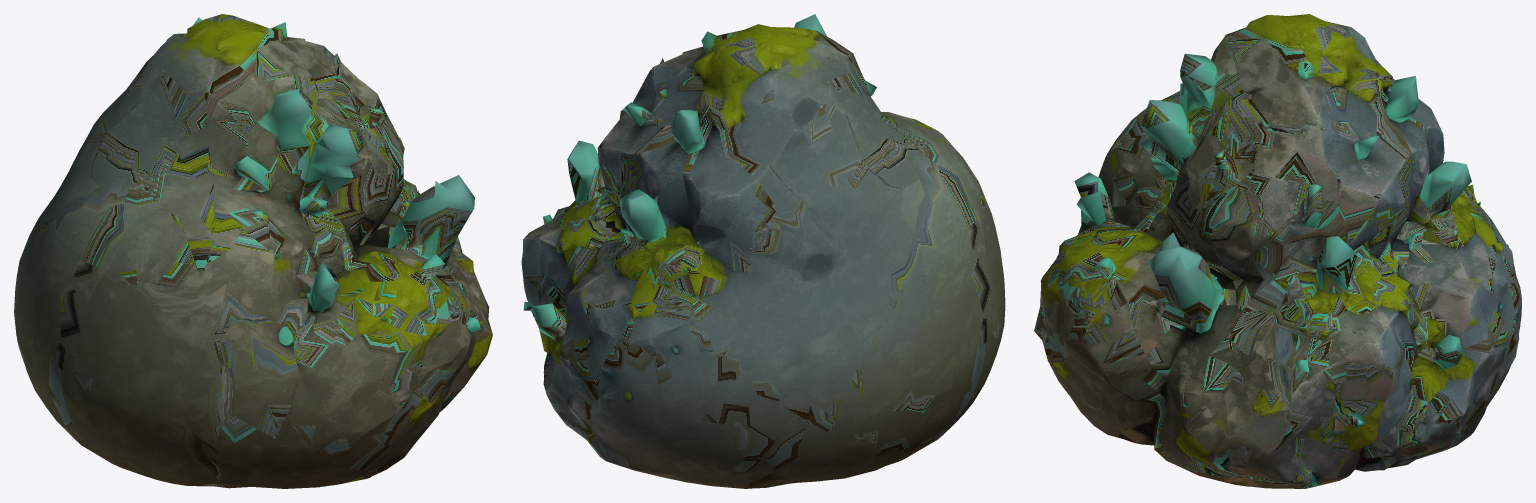
Rendered from emerald_ore_rock_01.glb.
3 views of the same model, side by side, from view 1: azimuth 30°, elevation 25°; view 2: azimuth 150°, elevation 25°; view 3: azimuth 270°, elevation 25° (orthographic).
Visible parts, largest first — view 1: tripo_node_98f566ad-8542-4377-b704-916d8ba9a4c2; view 2: tripo_node_98f566ad-8542-4377-b704-916d8ba9a4c2; view 3: tripo_node_98f566ad-8542-4377-b704-916d8ba9a4c2.
Boxes of the visible parts, box(x1,y1,x2,y2) form: tripo_node_98f566ad-8542-4377-b704-916d8ba9a4c2: box(14, 14, 492, 488); tripo_node_98f566ad-8542-4377-b704-916d8ba9a4c2: box(521, 14, 1005, 488); tripo_node_98f566ad-8542-4377-b704-916d8ba9a4c2: box(1034, 14, 1521, 488).
Size of the model in its own units: 0.9965 by 0.8913 by 1.
1 material, 1 textured.
